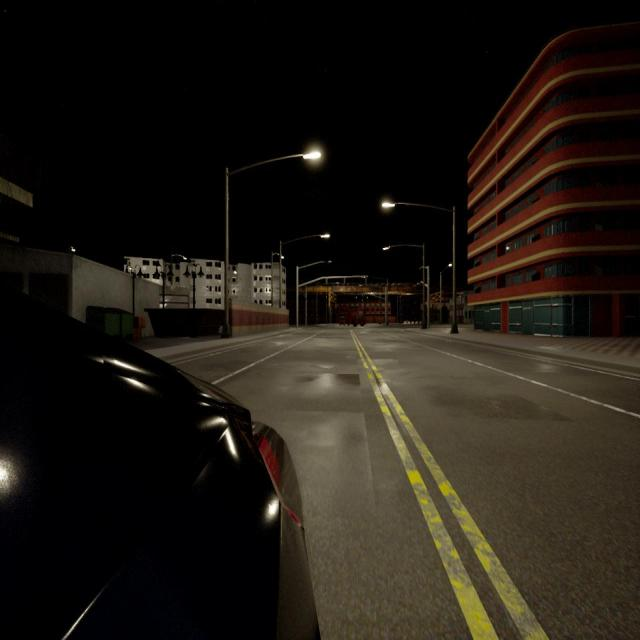Vehicle: (0, 300, 315, 638), (339, 309, 366, 326)
traffic_light: (365, 277, 367, 283), (344, 278, 346, 284), (326, 279, 328, 284), (356, 294, 357, 299), (367, 295, 368, 299)
